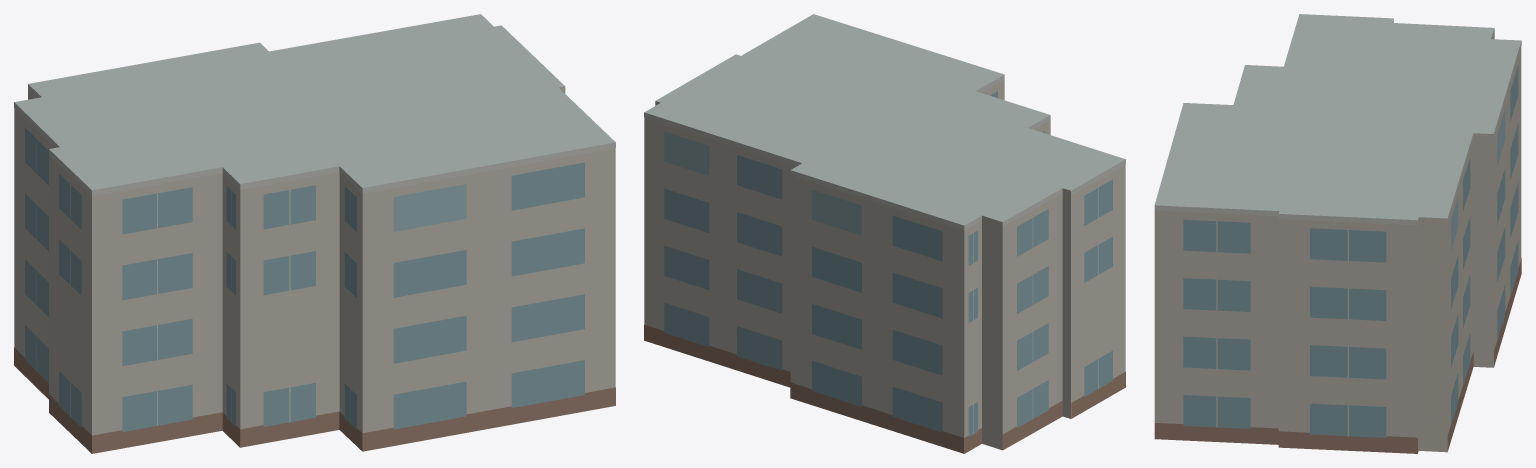
File: survey-upis-32984334.glb
3 renders of one model, left to right at view 1: azimuth 30°, elevation 25°; view 2: azimuth 150°, elevation 25°; view 3: azimuth 270°, elevation 25°, orthographic. The views are drawn at different scales.
Visible parts, largest first — view 1: survey-upis-32984334.tmp; view 2: survey-upis-32984334.tmp; view 3: survey-upis-32984334.tmp.
Boxes of the visible parts, x1=… form: survey-upis-32984334.tmp: x1=14, y1=14, x2=615, y2=453; survey-upis-32984334.tmp: x1=644, y1=14, x2=1125, y2=453; survey-upis-32984334.tmp: x1=1154, y1=14, x2=1521, y2=453.
Size of the model in its own units: 21.12 by 11.16 by 15.89.
